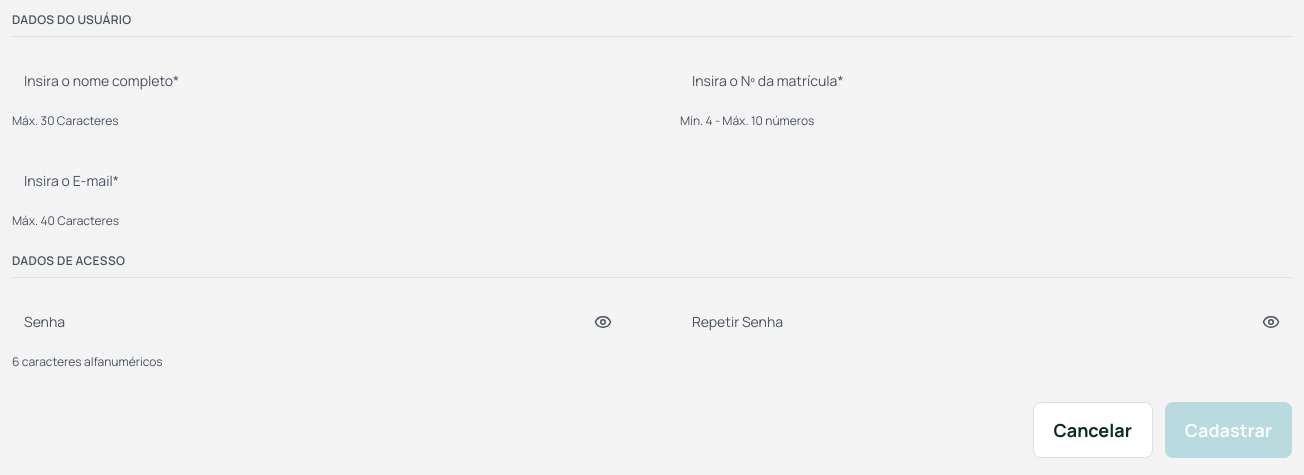
Test case: UserForm (create) › keeps the submit button disabled until every field is valid
Check: the button "Cadastrar" is disabled, box [1165,402,1292,458]
Type "Joao Silva" into the field labelled "Insira o nome completo*".
click(318, 81); type("Joao Silva")  # box [12,53,624,109]
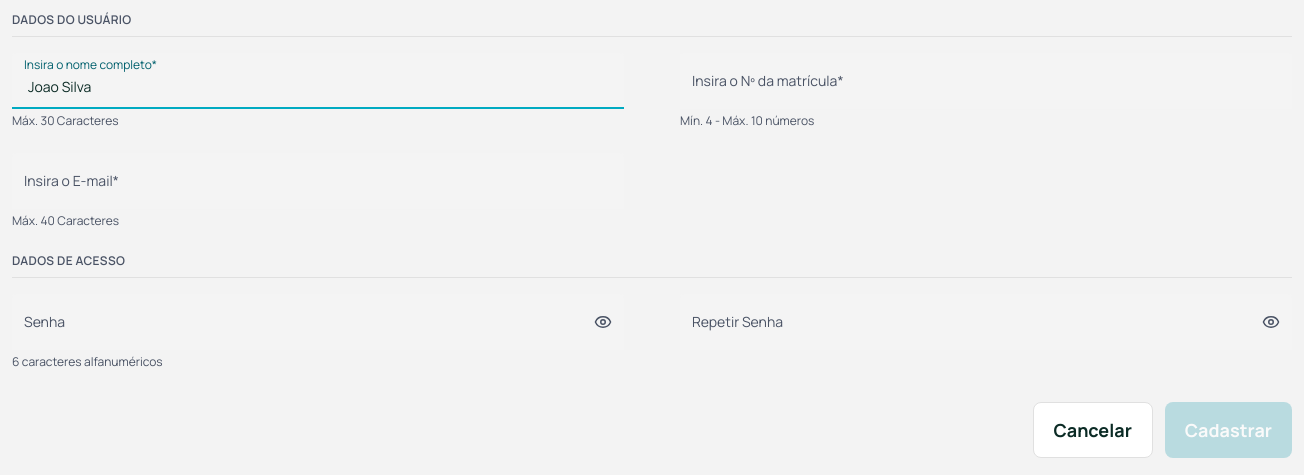
Type "12345678" into the field labelled "Insira o Nº da matrícula*".
click(986, 81); type("12345678")  # box [680,53,1292,109]
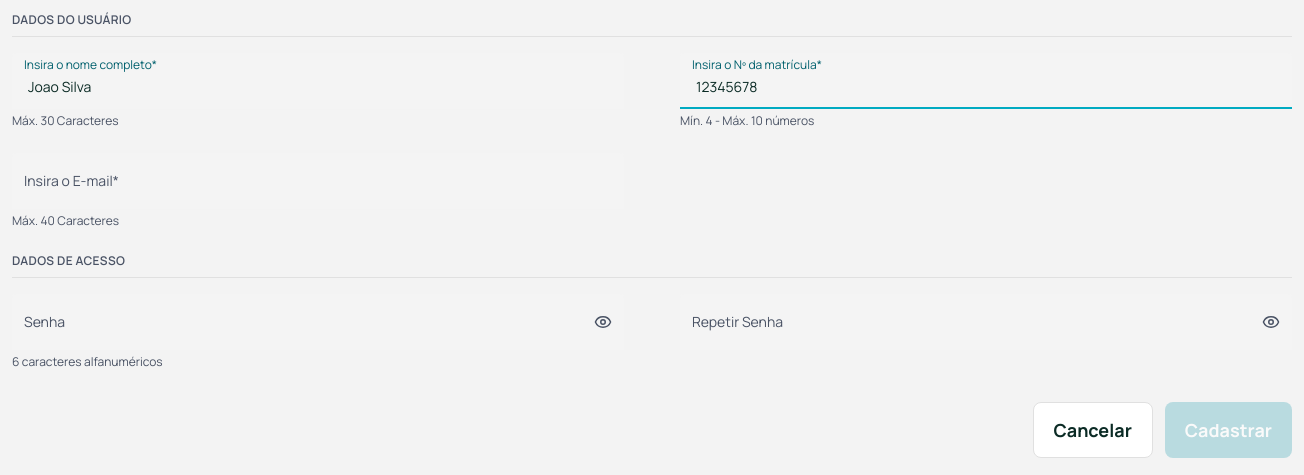
Type "joao@email.com" into the field labelled "Insira o E-mail*".
click(318, 181); type("joao@email.com")  # box [12,153,624,209]
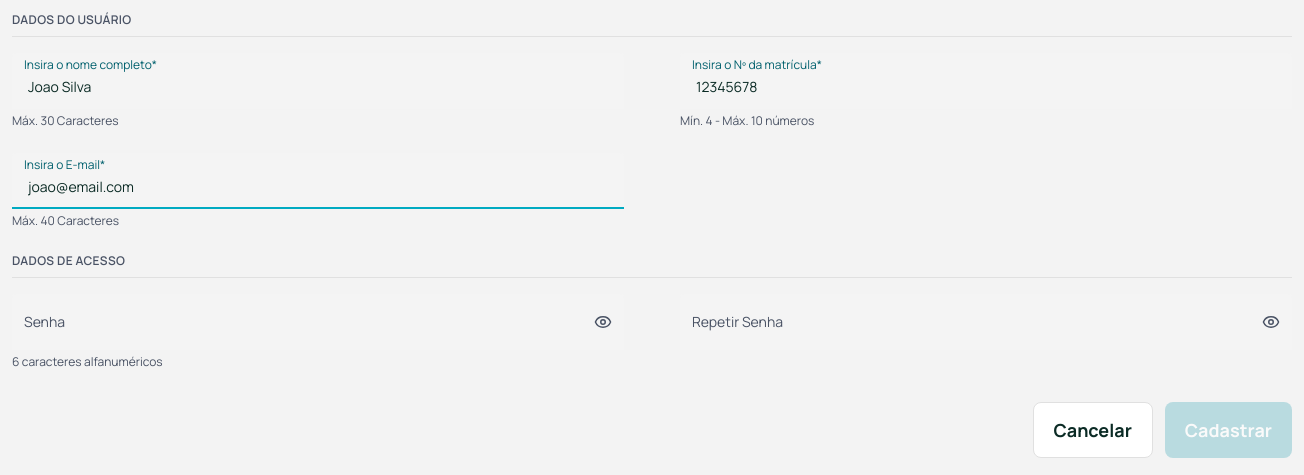
Check: the button "Cadastrar" is disabled, box [1165,402,1292,458]
Type "Ab1c2d" into the password field labelled "Senha".
click(318, 322); type("Ab1c2d")  # box [12,294,624,350]
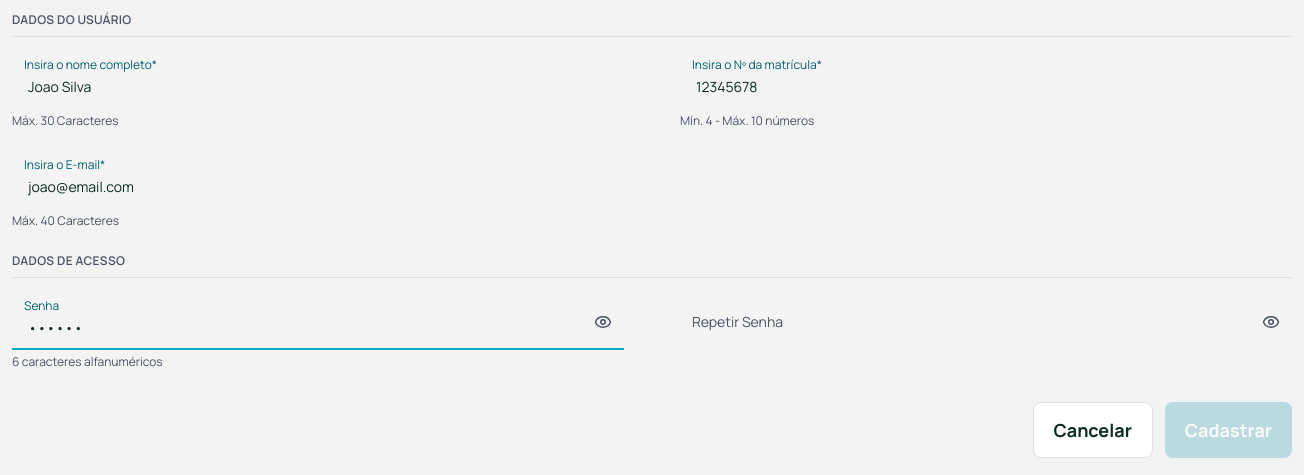
Check: the button "Cadastrar" is disabled, box [1165,402,1292,458]
Type "Ab1c2d" into the password field labelled "Repetir Senha".
click(986, 322); type("Ab1c2d")  # box [680,294,1292,350]
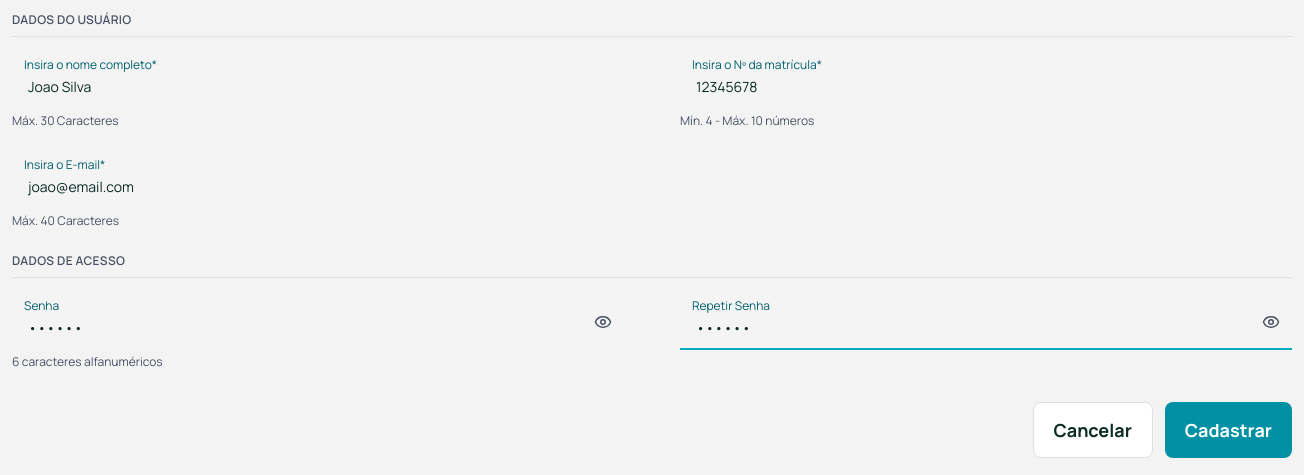
Check: the button "Cadastrar" is enabled, box [1165,402,1292,458]
